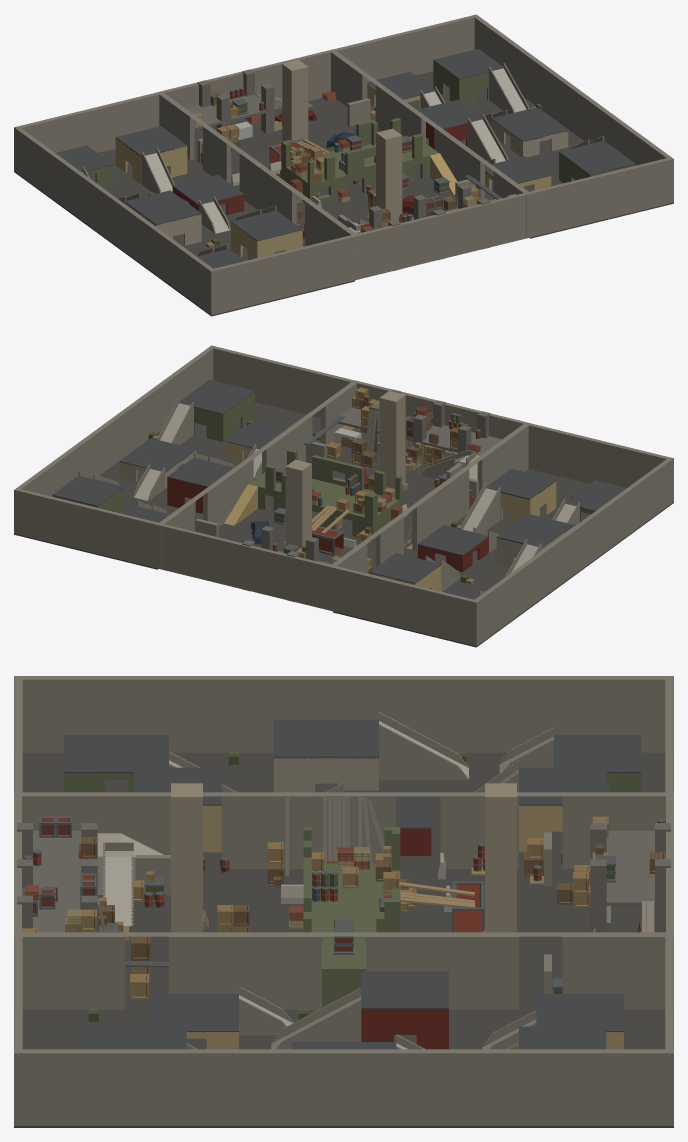
The model's file is arena.glb.
3 views of the same model, one above another, from view 1: azimuth 30°, elevation 25°; view 2: azimuth 150°, elevation 25°; view 3: azimuth 270°, elevation 25° (orthographic). The views are drawn at different scales.
Visible parts, largest first — view 1: solatel_extension, floors, Plane, room, solatel_extension_drawn, Cube.016, obj.048, obj.049, Cube.004, obj.004, Cube.001; view 2: solatel_extension, floors, room, solatel_extension_drawn, Plane, Cube.004, obj.048, obj.049, Cube.016, Cube.002, Cube.005; view 3: solatel_extension, Plane, solatel_extension_drawn, floors, room, Cube.016, Cube.004, obj.048, obj.049, Cube.005, Cube.030, obj.024.
Part boxes in pixels (x1,y1,x2,y2): solatel_extension: (14, 14, 673, 316); floors: (157, 49, 530, 279); Plane: (191, 98, 455, 278); room: (281, 118, 438, 203); solatel_extension_drawn: (82, 63, 602, 256); Cube.016: (186, 69, 274, 133); obj.048: (376, 128, 402, 221); obj.049: (282, 60, 308, 141); Cube.004: (356, 184, 496, 271); obj.004: (347, 98, 370, 126); Cube.001: (430, 153, 457, 194); solatel_extension: (14, 345, 673, 647); floors: (157, 380, 530, 610); room: (249, 449, 401, 540); solatel_extension_drawn: (95, 398, 579, 595); Plane: (218, 431, 472, 609); Cube.004: (335, 389, 501, 464); obj.048: (379, 391, 405, 488); obj.049: (285, 459, 311, 548); Cube.016: (242, 526, 331, 602); Cube.002: (224, 484, 257, 525); Cube.005: (312, 524, 343, 556); solatel_extension: (14, 676, 673, 1127); Plane: (97, 866, 654, 1008); solatel_extension_drawn: (97, 712, 553, 1049); floors: (14, 792, 673, 936); room: (303, 827, 400, 1005); Cube.016: (590, 823, 670, 932); Cube.004: (17, 823, 97, 932); obj.048: (171, 783, 202, 932); obj.049: (485, 783, 516, 932); Cube.005: (452, 881, 484, 932); Cube.030: (328, 797, 345, 860); obj.024: (135, 855, 170, 894).
Size of what is drawn, in the model's own units: 22.17 by 4.05 by 16.4.
